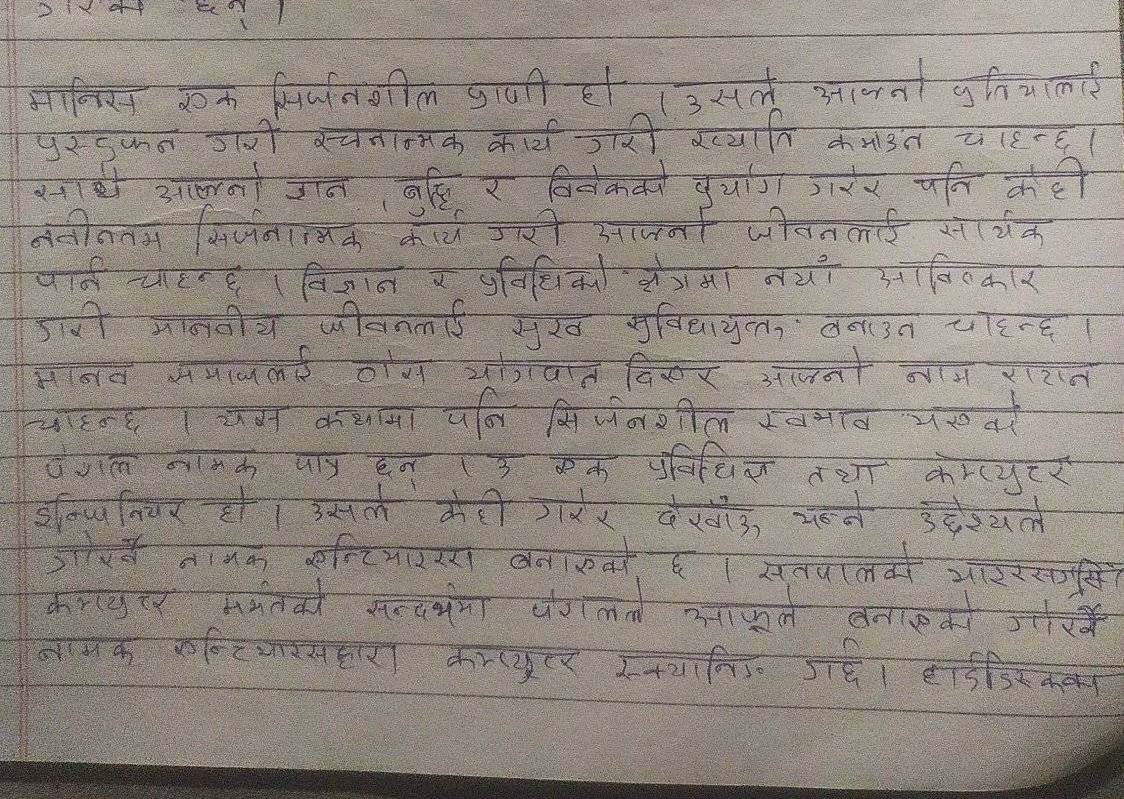text: (167, 626, 403, 690), (906, 645, 1106, 711), (945, 542, 1124, 592), (945, 51, 1105, 102), (607, 642, 766, 693), (911, 441, 1074, 489), (295, 533, 479, 575), (191, 211, 362, 255), (748, 542, 919, 584), (438, 639, 587, 687), (265, 70, 439, 111), (541, 398, 731, 435), (474, 251, 613, 301), (802, 53, 934, 105), (622, 302, 782, 344), (741, 208, 907, 248), (24, 491, 184, 531), (879, 253, 1043, 292), (915, 494, 1066, 536), (527, 584, 652, 634), (306, 123, 473, 159), (843, 593, 981, 636), (22, 207, 162, 249), (644, 490, 769, 537), (167, 349, 320, 387), (360, 580, 492, 624), (317, 301, 468, 338), (462, 347, 602, 386), (509, 536, 633, 580), (38, 582, 189, 618), (998, 595, 1124, 638), (144, 304, 276, 345), (28, 124, 178, 160), (678, 589, 798, 634), (18, 76, 144, 118), (668, 61, 779, 108), (643, 443, 770, 484), (945, 117, 1083, 154), (539, 163, 671, 201), (929, 213, 1064, 250), (760, 347, 869, 392), (585, 206, 710, 245), (616, 346, 726, 390), (942, 302, 1063, 342), (904, 397, 1027, 436), (688, 113, 798, 156), (457, 65, 557, 112), (211, 579, 332, 617), (799, 637, 876, 696), (635, 253, 734, 298), (29, 632, 145, 670), (129, 260, 246, 297), (20, 404, 155, 436), (146, 168, 266, 204), (753, 403, 879, 437), (527, 485, 622, 530), (1003, 158, 1088, 207), (805, 304, 919, 340), (160, 442, 262, 482), (687, 161, 782, 203), (783, 495, 873, 539), (41, 532, 140, 572), (293, 261, 397, 299), (306, 398, 423, 430), (822, 119, 928, 154), (799, 445, 879, 491), (175, 537, 272, 573), (29, 360, 138, 392), (167, 71, 242, 116), (890, 355, 982, 391), (26, 167, 126, 200), (506, 308, 588, 348), (37, 445, 136, 478), (29, 301, 110, 341), (30, 255, 108, 296), (307, 484, 391, 522), (480, 207, 564, 245), (757, 253, 850, 287), (806, 163, 887, 202), (575, 118, 658, 155), (392, 161, 453, 211), (426, 489, 512, 524), (349, 352, 436, 386), (205, 119, 279, 158), (999, 357, 1095, 387), (485, 119, 558, 158), (442, 389, 506, 433), (212, 401, 287, 435), (910, 162, 971, 201), (575, 63, 621, 113), (545, 450, 616, 482), (397, 216, 465, 249), (279, 175, 359, 202), (287, 448, 345, 482), (363, 445, 422, 478), (207, 489, 252, 528), (659, 545, 698, 581), (477, 168, 514, 201), (485, 444, 518, 479), (423, 260, 453, 294)
